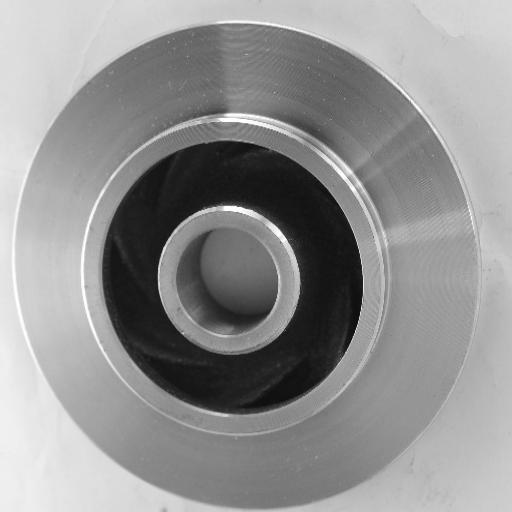polished_casting: (5, 20, 483, 507)
